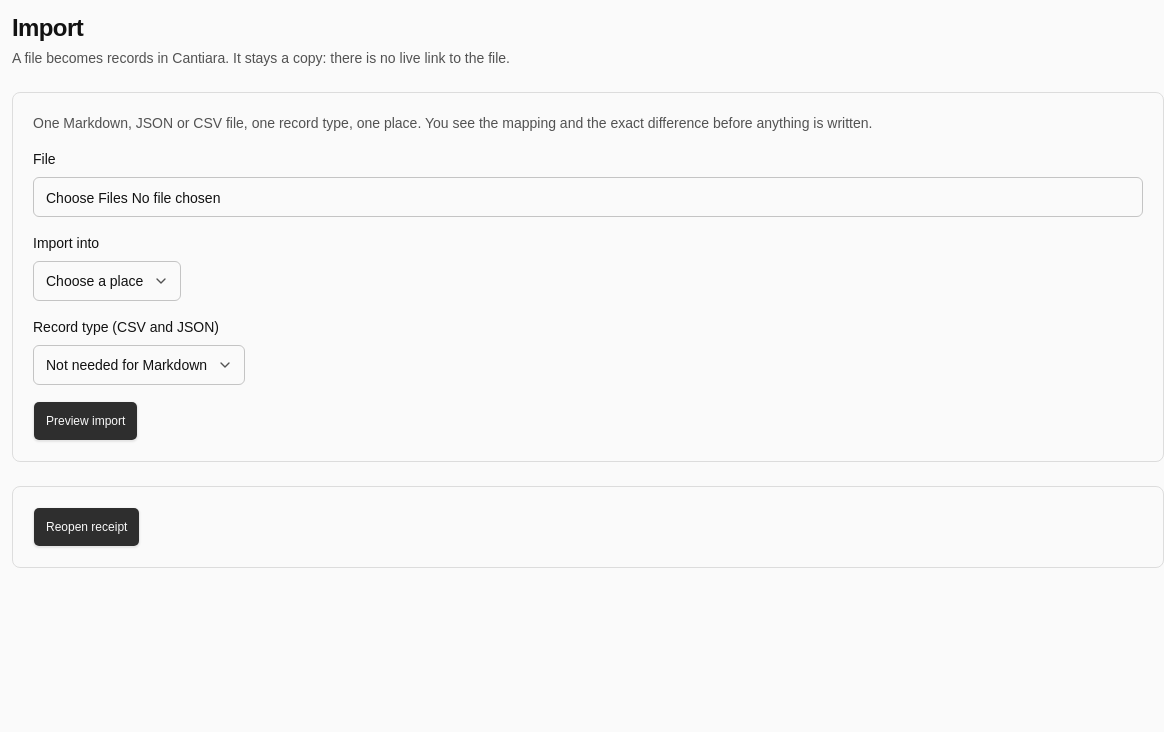
Test case: a dropped receipt reopens by the stored key of the last Apply Import
Click the button "Reopen receipt".
click(87, 527)  # box [33,507,140,547]
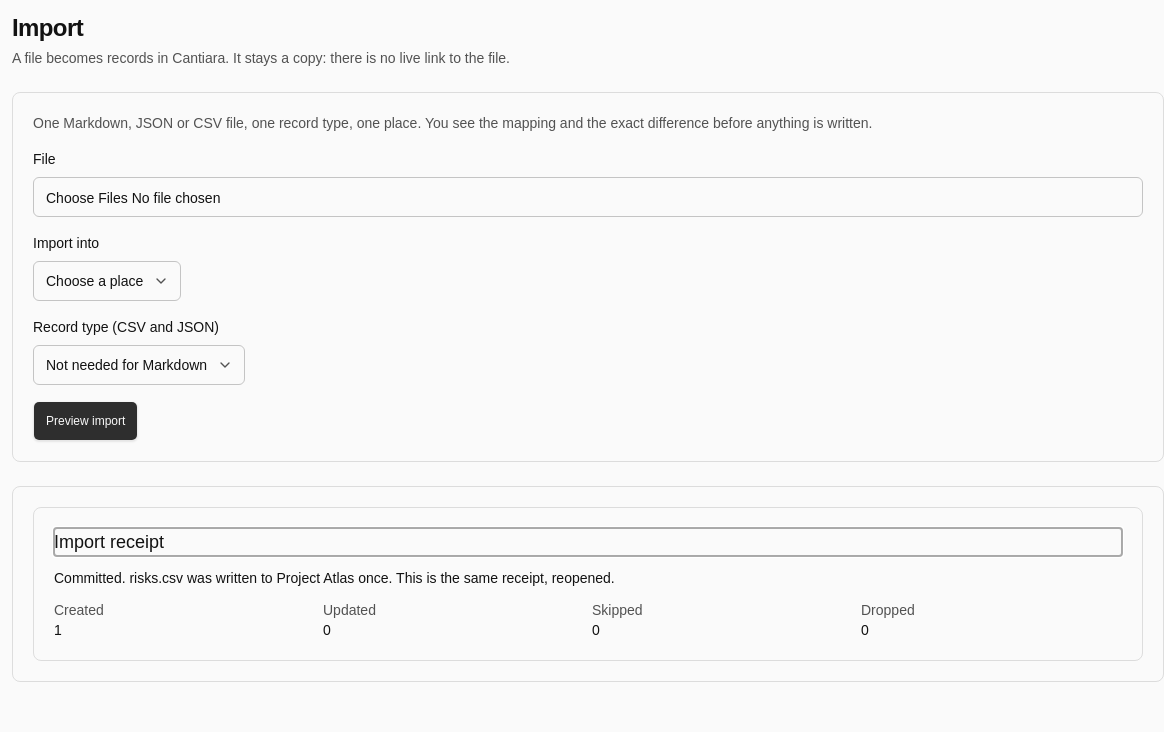
Result: the text "This is the same receipt, reopened." is shown at [392,570,615,586]
